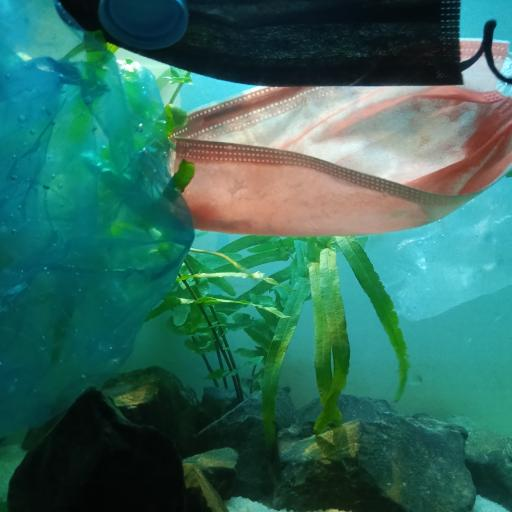bottle_cap: (100, 0, 190, 51)
mask: (166, 37, 512, 237), (54, 0, 511, 86)
plastic_bag: (1, 0, 198, 440), (360, 171, 512, 321)
